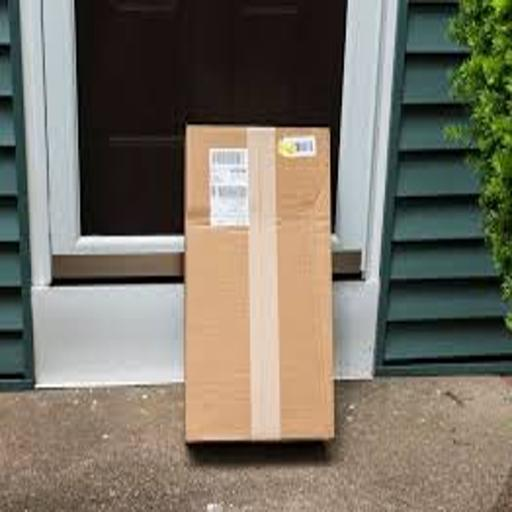Other: (182, 121, 342, 448)
